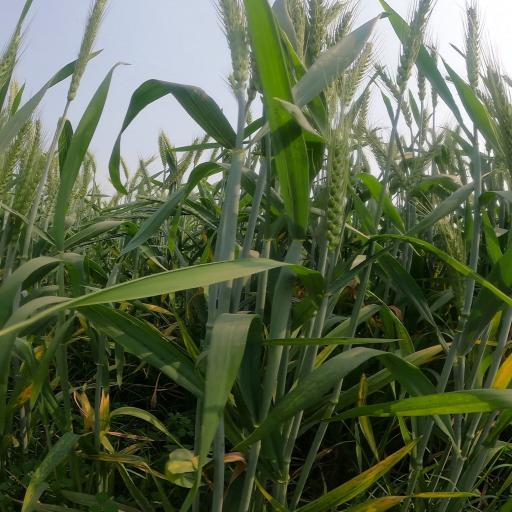diease: (288, 433, 423, 512), (86, 453, 156, 472), (100, 427, 168, 446), (70, 394, 99, 431), (99, 386, 125, 423), (11, 378, 41, 406), (422, 489, 486, 501), (138, 300, 182, 314), (219, 451, 250, 467)
pest: (371, 234, 429, 250), (140, 342, 174, 365), (281, 152, 310, 162), (273, 107, 281, 117), (293, 90, 303, 96), (261, 247, 267, 251)
wheat: (203, 0, 259, 93), (318, 129, 350, 257), (0, 16, 51, 83), (76, 0, 107, 90), (457, 2, 485, 86), (358, 128, 408, 175), (408, 0, 424, 95), (306, 0, 329, 55), (290, 0, 312, 47), (352, 40, 369, 100), (437, 226, 468, 258), (132, 156, 154, 192), (34, 120, 45, 175), (11, 123, 23, 170), (77, 196, 107, 214), (154, 134, 168, 165), (86, 152, 102, 176), (8, 80, 18, 117), (47, 164, 58, 197), (82, 171, 90, 197)
